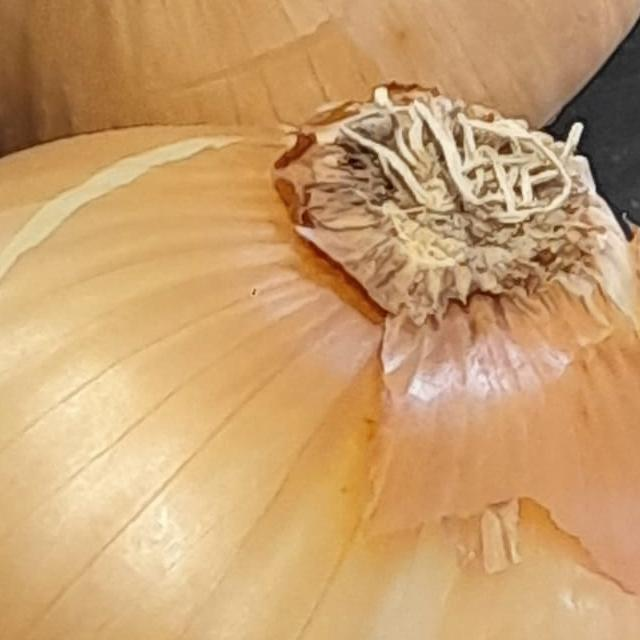onion: (0, 59, 640, 640), (0, 0, 640, 176)
